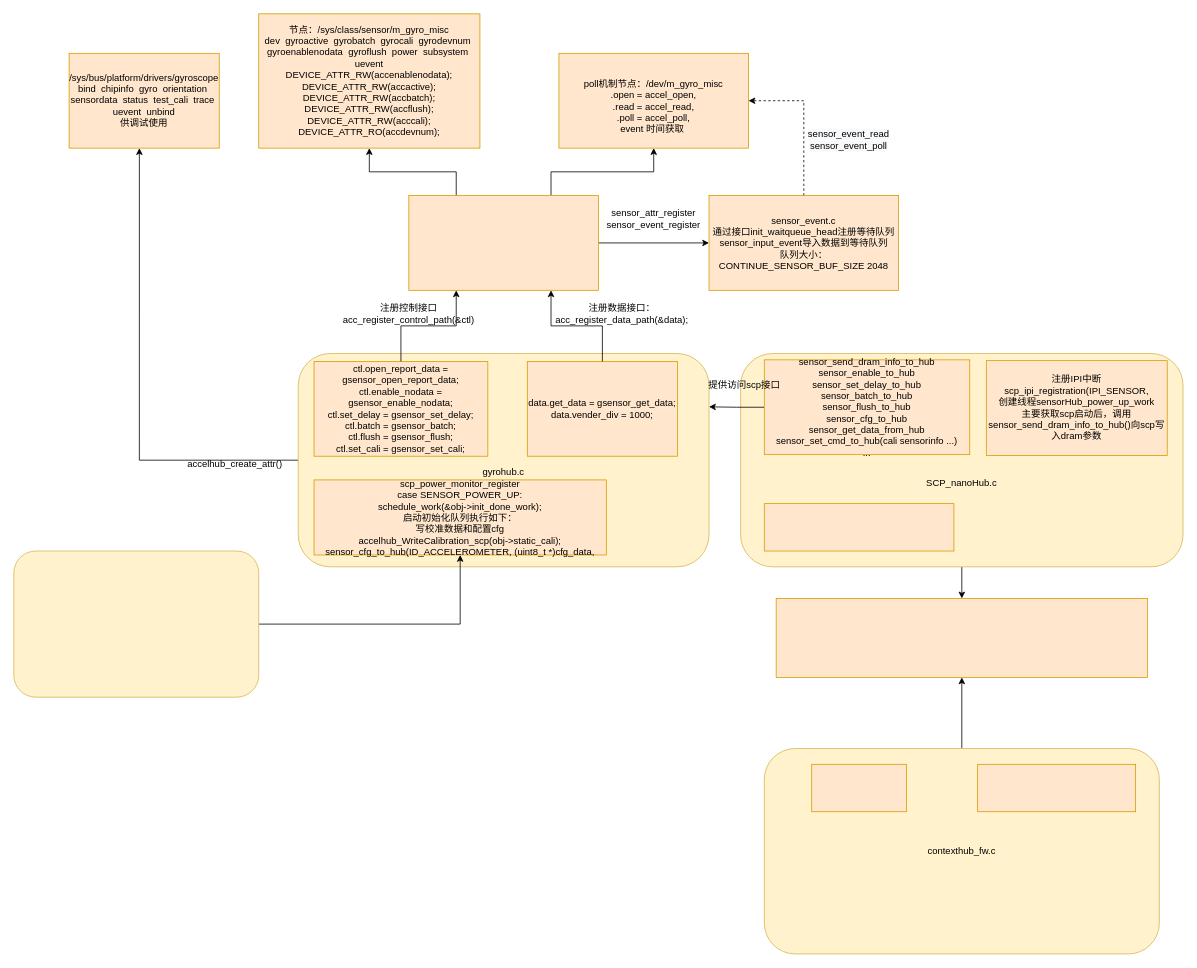
Image size: 1197x968. Some labels were removed from this diagram. Each missing label, with the centre of its shape:
contextHubFwHandleEvent处理IPI通信数据: (x=1056, y=788)
gyroscope.c acc_poll 定时器调用 acc_work_func工作对列获取实时数据: (x=503, y=242)
IPI通信 共享内存: (x=961, y=637)
scp_ipi_registration注册中断: (x=859, y=788)
SCP_power_monitor.c 主要提供notify接口通知驱动scp启动成功: (x=136, y=623)
SCP_sensorHub_sync_time_func 定时器启动工作队列同步AP时间戳: (x=859, y=527)
